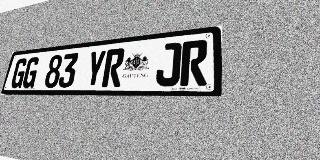3: (57, 53, 79, 88)
8: (43, 54, 64, 88)
G: (21, 57, 41, 88), (10, 58, 29, 88)
J: (155, 42, 182, 86)
R: (180, 39, 208, 86), (101, 48, 125, 87)
Y: (84, 50, 107, 87)
